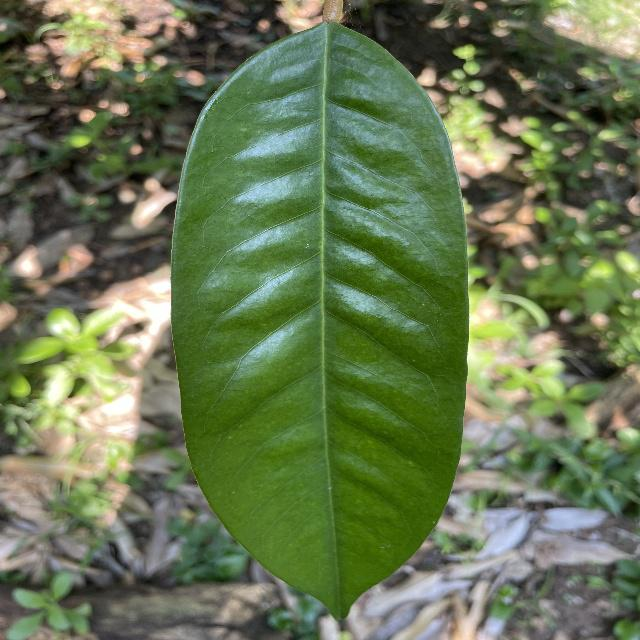No Disease: (161, 9, 485, 627)
